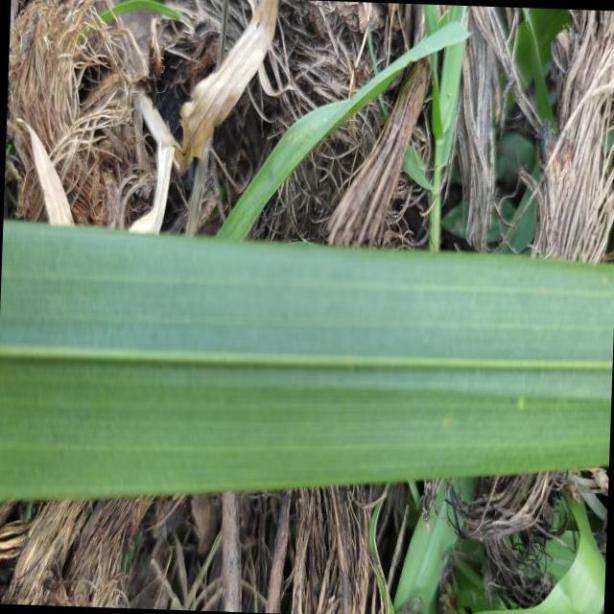Healthy: (1, 219, 614, 502)
